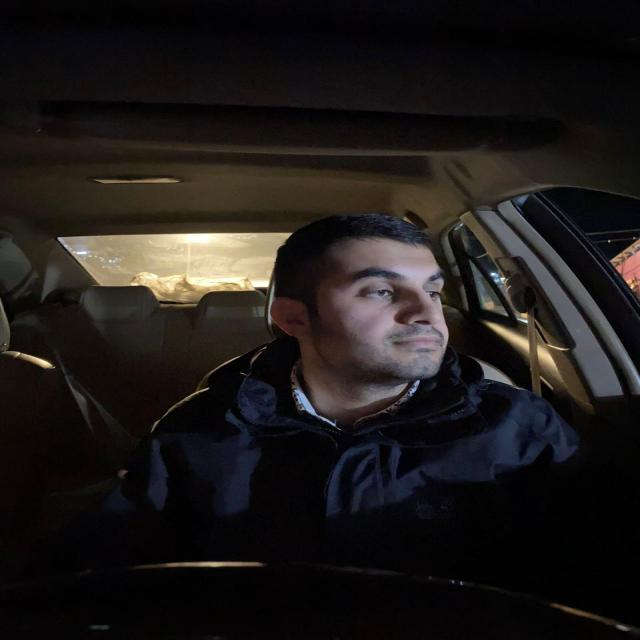LeftRight: (274, 202, 462, 396)
